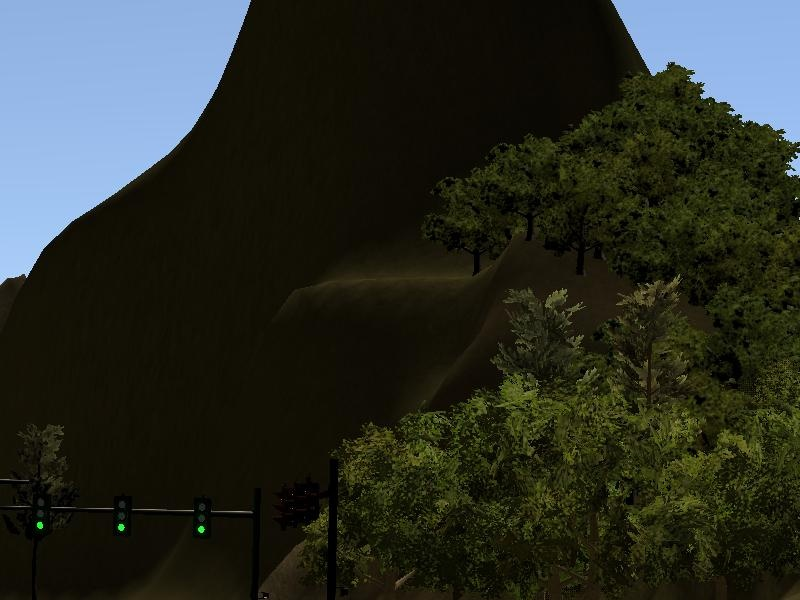green: (111, 496, 134, 542), (31, 495, 49, 539), (194, 497, 210, 539)
